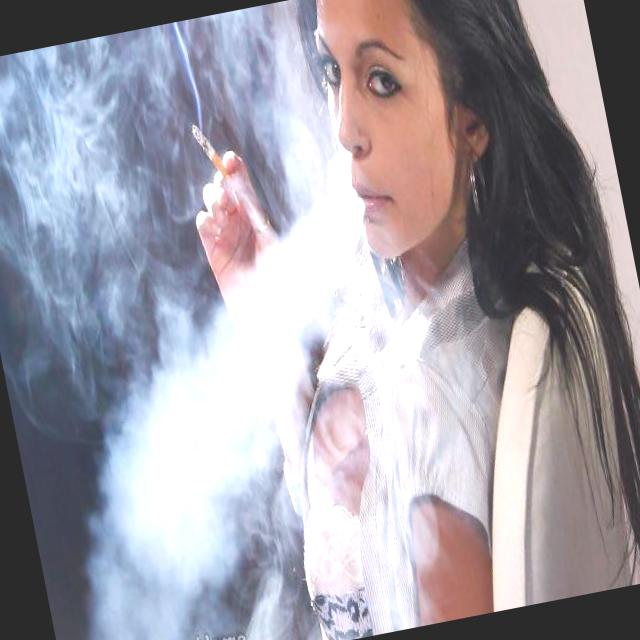cigarette: (161, 82, 252, 214)
